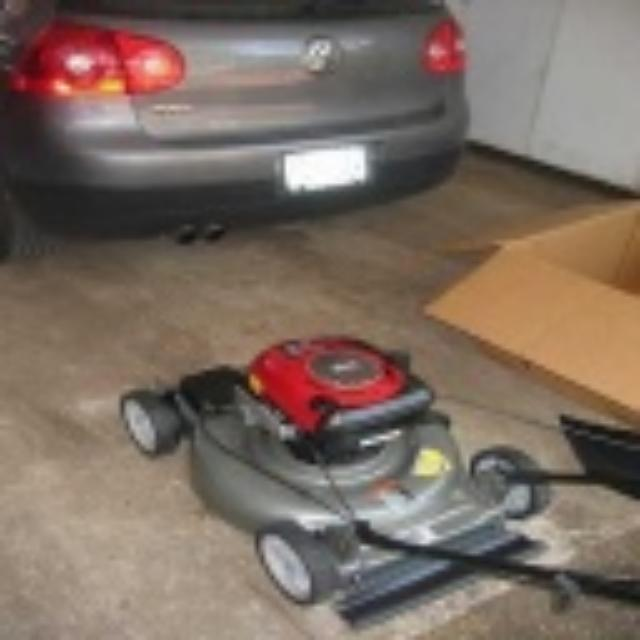Rotary-Mower: (115, 326, 635, 630)
